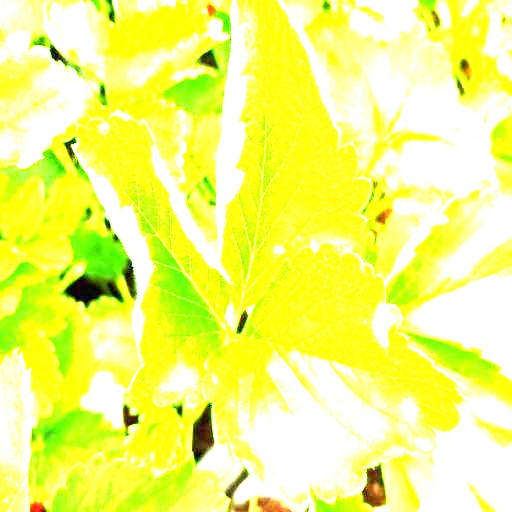Powdery Mildew Leaf: (200, 242, 472, 511), (215, 0, 380, 312), (71, 112, 235, 408), (385, 185, 511, 349), (0, 346, 35, 511), (41, 0, 113, 79)
